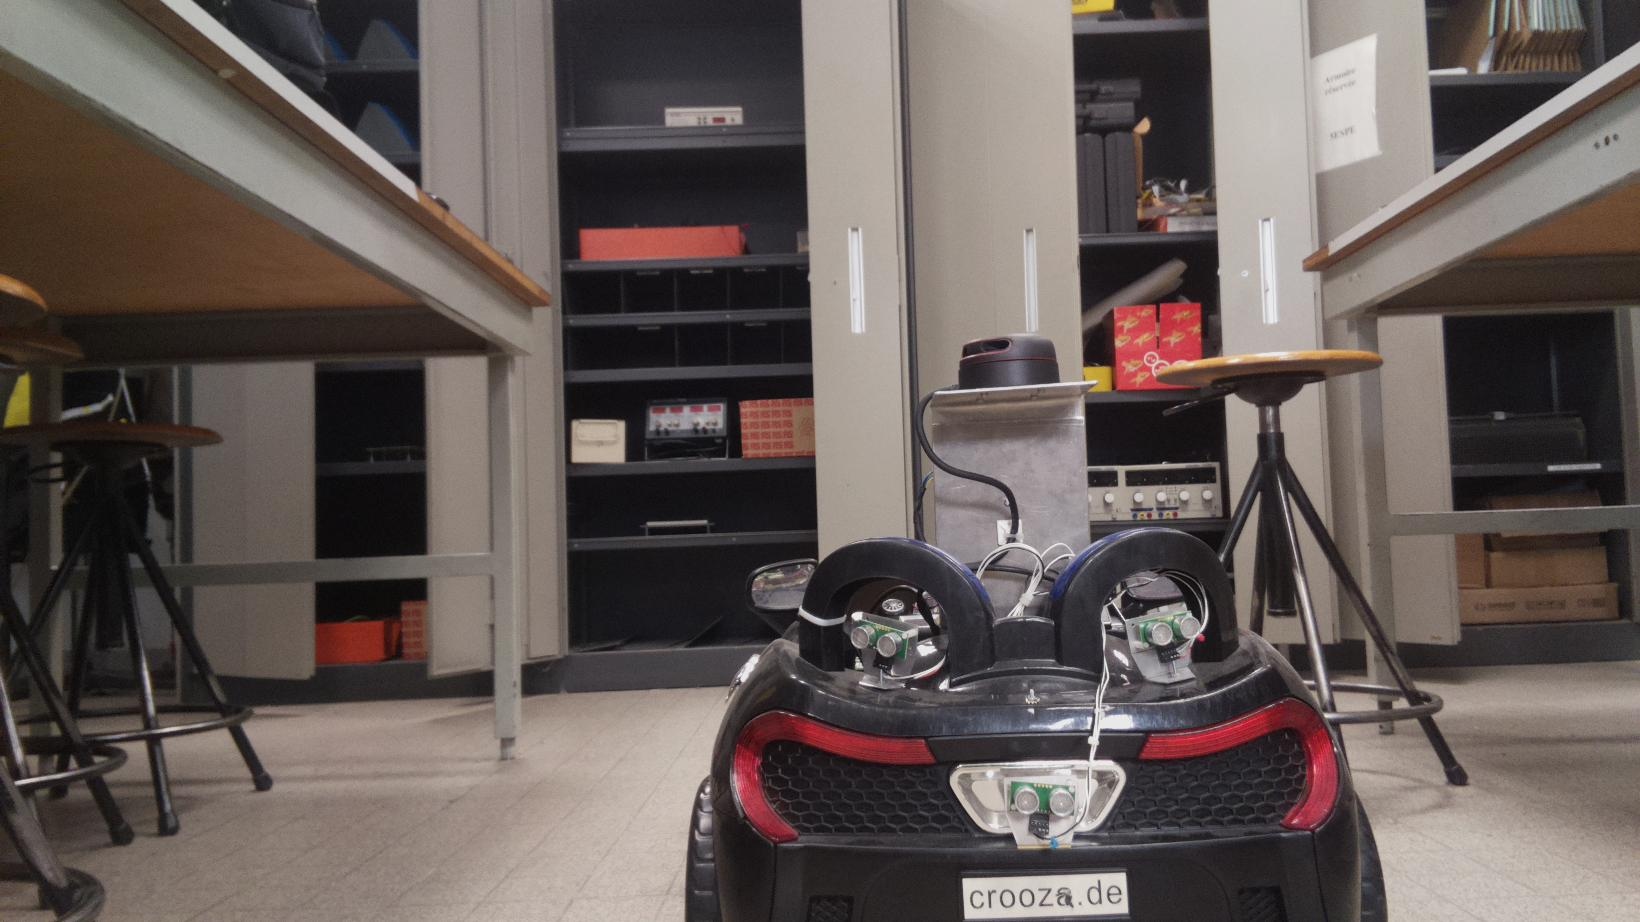big: (679, 335, 1397, 922)
